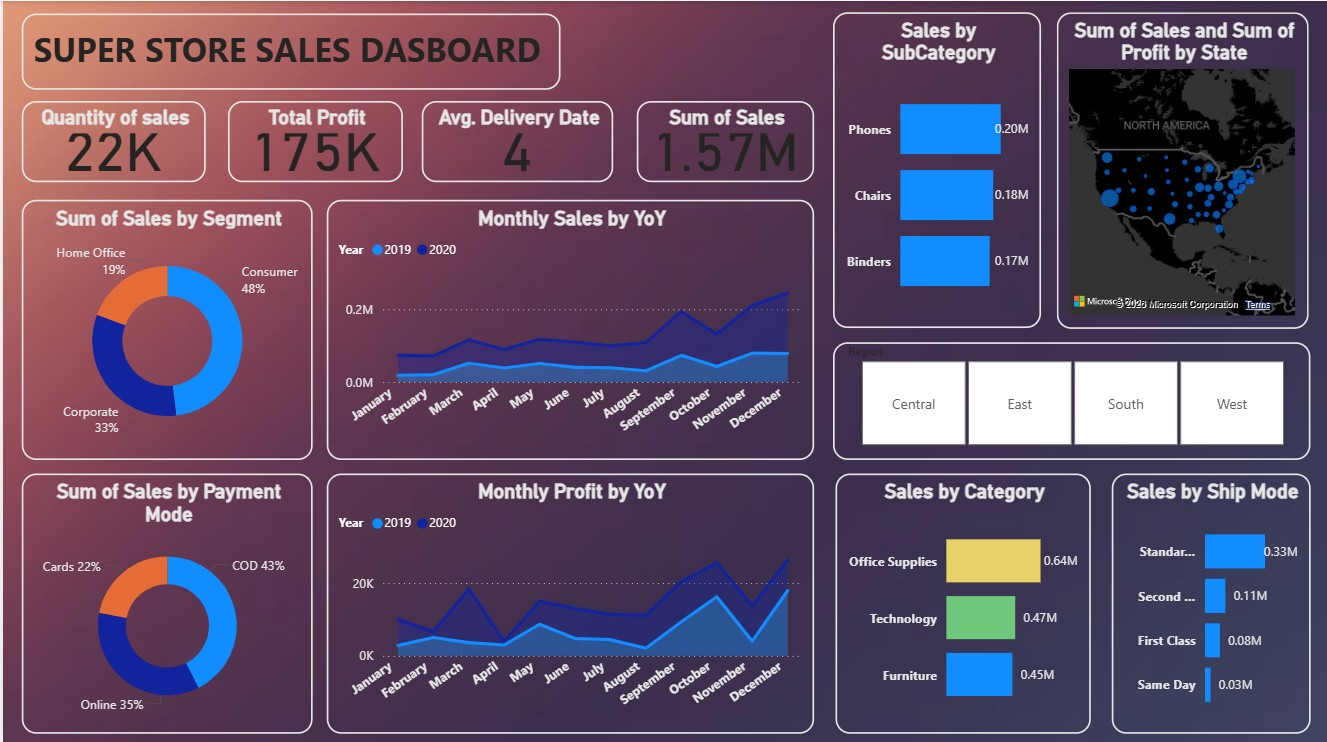

The page's visual inventory and layout, read from the dashboard file:
{"tool":"powerbi","page":{"name":"Page 1","canvas":[1280,720],"ordinal":0},"visuals":[{"type":"clusteredBarChart","title":"Sales by Category","fields":{"Category":["SuperStore_Sales_Dataset.Category"],"Y":["Sum(SuperStore_Sales_Dataset.Sales)"]},"box":[803.5,456,246.1,250.9],"z":0},{"type":"clusteredBarChart","title":"Sales by SubCategory","fields":{"Category":["SuperStore_Sales_Dataset.Sub-Category"],"Y":["Sum(SuperStore_Sales_Dataset.Sales)"]},"box":[801.1,11.1,201.1,304.4],"z":1000},{"type":"clusteredBarChart","title":"Sales by Ship Mode","fields":{"Y":["Sum(SuperStore_Sales_Dataset.Sales)"],"Category":["SuperStore_Sales_Dataset.Ship Mode"]},"box":[1070.1,456,191.8,250.9],"z":2000},{"type":"stackedAreaChart","title":" Monthly Sales by YoY","fields":{"Y":["Sum(SuperStore_Sales_Dataset.Sales)"],"Category":["SuperStore_Sales_Dataset.Order Date.Variation.Date Hierarchy.Month"],"Series":["SuperStore_Sales_Dataset.Order Date.Variation.Date Hierarchy.Year"]},"box":[312.5,191.8,470.5,250.9],"z":3000},{"type":"stackedAreaChart","title":" Monthly Profit by YoY","fields":{"Category":["SuperStore_Sales_Dataset.Order Date.Variation.Date Hierarchy.Month"],"Series":["SuperStore_Sales_Dataset.Order Date.Variation.Date Hierarchy.Year"],"Y":["Sum(SuperStore_Sales_Dataset.Profit)"]},"box":[312.5,456,470.5,250.9],"z":4000},{"type":"donutChart","fields":{"Category":["SuperStore_Sales_Dataset.Segment"],"Y":["Sum(SuperStore_Sales_Dataset.Sales)"]},"box":[18.1,191.8,281.1,250.9],"z":5000},{"type":"donutChart","fields":{"Y":["Sum(SuperStore_Sales_Dataset.Sales)"],"Category":["SuperStore_Sales_Dataset.Payment Mode"]},"box":[18.1,456,281.1,250.9],"z":6000},{"type":"slicer","fields":{"Values":["SuperStore_Sales_Dataset.Region"]},"box":[801.1,329.4,460.9,113.4],"z":7000},{"type":"textbox","box":[18.1,12.1,520,73.6],"z":8000},{"type":"map","fields":{"Category":["SuperStore_Sales_Dataset.State"],"Size":["Sum(SuperStore_Sales_Dataset.Sales)"]},"box":[1016.9,11.4,243.2,305.8],"z":9000},{"type":"card","title":"Sum of Sales","fields":{"Values":["Sum(SuperStore_Sales_Dataset.Sales)"]},"box":[612.2,96.1,170.9,78.3],"z":10000},{"type":"card","title":"Quantity of sales","fields":{"Values":["Sum(SuperStore_Sales_Dataset.Quantity)"]},"box":[18.5,96.7,177.8,78.2],"z":11000},{"type":"card","title":"Total Profit","fields":{"Values":["Sum(SuperStore_Sales_Dataset.Profit)"]},"box":[217.1,96.1,169.1,78.3],"z":12000},{"type":"card","title":"Avg. Delivery Date","fields":{"Values":["Avg(SuperStore_Sales_Dataset.Average Delivery)"]},"box":[404,96.1,185.1,78.3],"z":13000}]}

Visuals, with their boxes in screenshot pixels (x1, y1, x2, y2), scaled from the page's 1280x720 canvas onto the 1327x742 screenshot:
"Sales by Category" clusteredBarChart: (833, 470, 1088, 728)
"Sales by SubCategory" clusteredBarChart: (831, 11, 1039, 325)
"Sales by Ship Mode" clusteredBarChart: (1109, 470, 1308, 728)
" Monthly Sales by YoY" stackedAreaChart: (324, 198, 812, 456)
" Monthly Profit by YoY" stackedAreaChart: (324, 470, 812, 728)
donutChart - SuperStore_Sales_Dataset.Segment x Sum(SuperStore_Sales_Dataset.Sales): (19, 198, 310, 456)
donutChart - Sum(SuperStore_Sales_Dataset.Sales) x SuperStore_Sales_Dataset.Payment Mode: (19, 470, 310, 728)
slicer - SuperStore_Sales_Dataset.Region: (831, 339, 1308, 456)
textbox: (19, 12, 558, 88)
map - SuperStore_Sales_Dataset.State x Sum(SuperStore_Sales_Dataset.Sales): (1054, 12, 1306, 327)
"Sum of Sales" card: (635, 99, 812, 180)
"Quantity of sales" card: (19, 100, 204, 180)
"Total Profit" card: (225, 99, 400, 180)
"Avg. Delivery Date" card: (419, 99, 611, 180)
